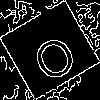O: (24, 25, 80, 85)
